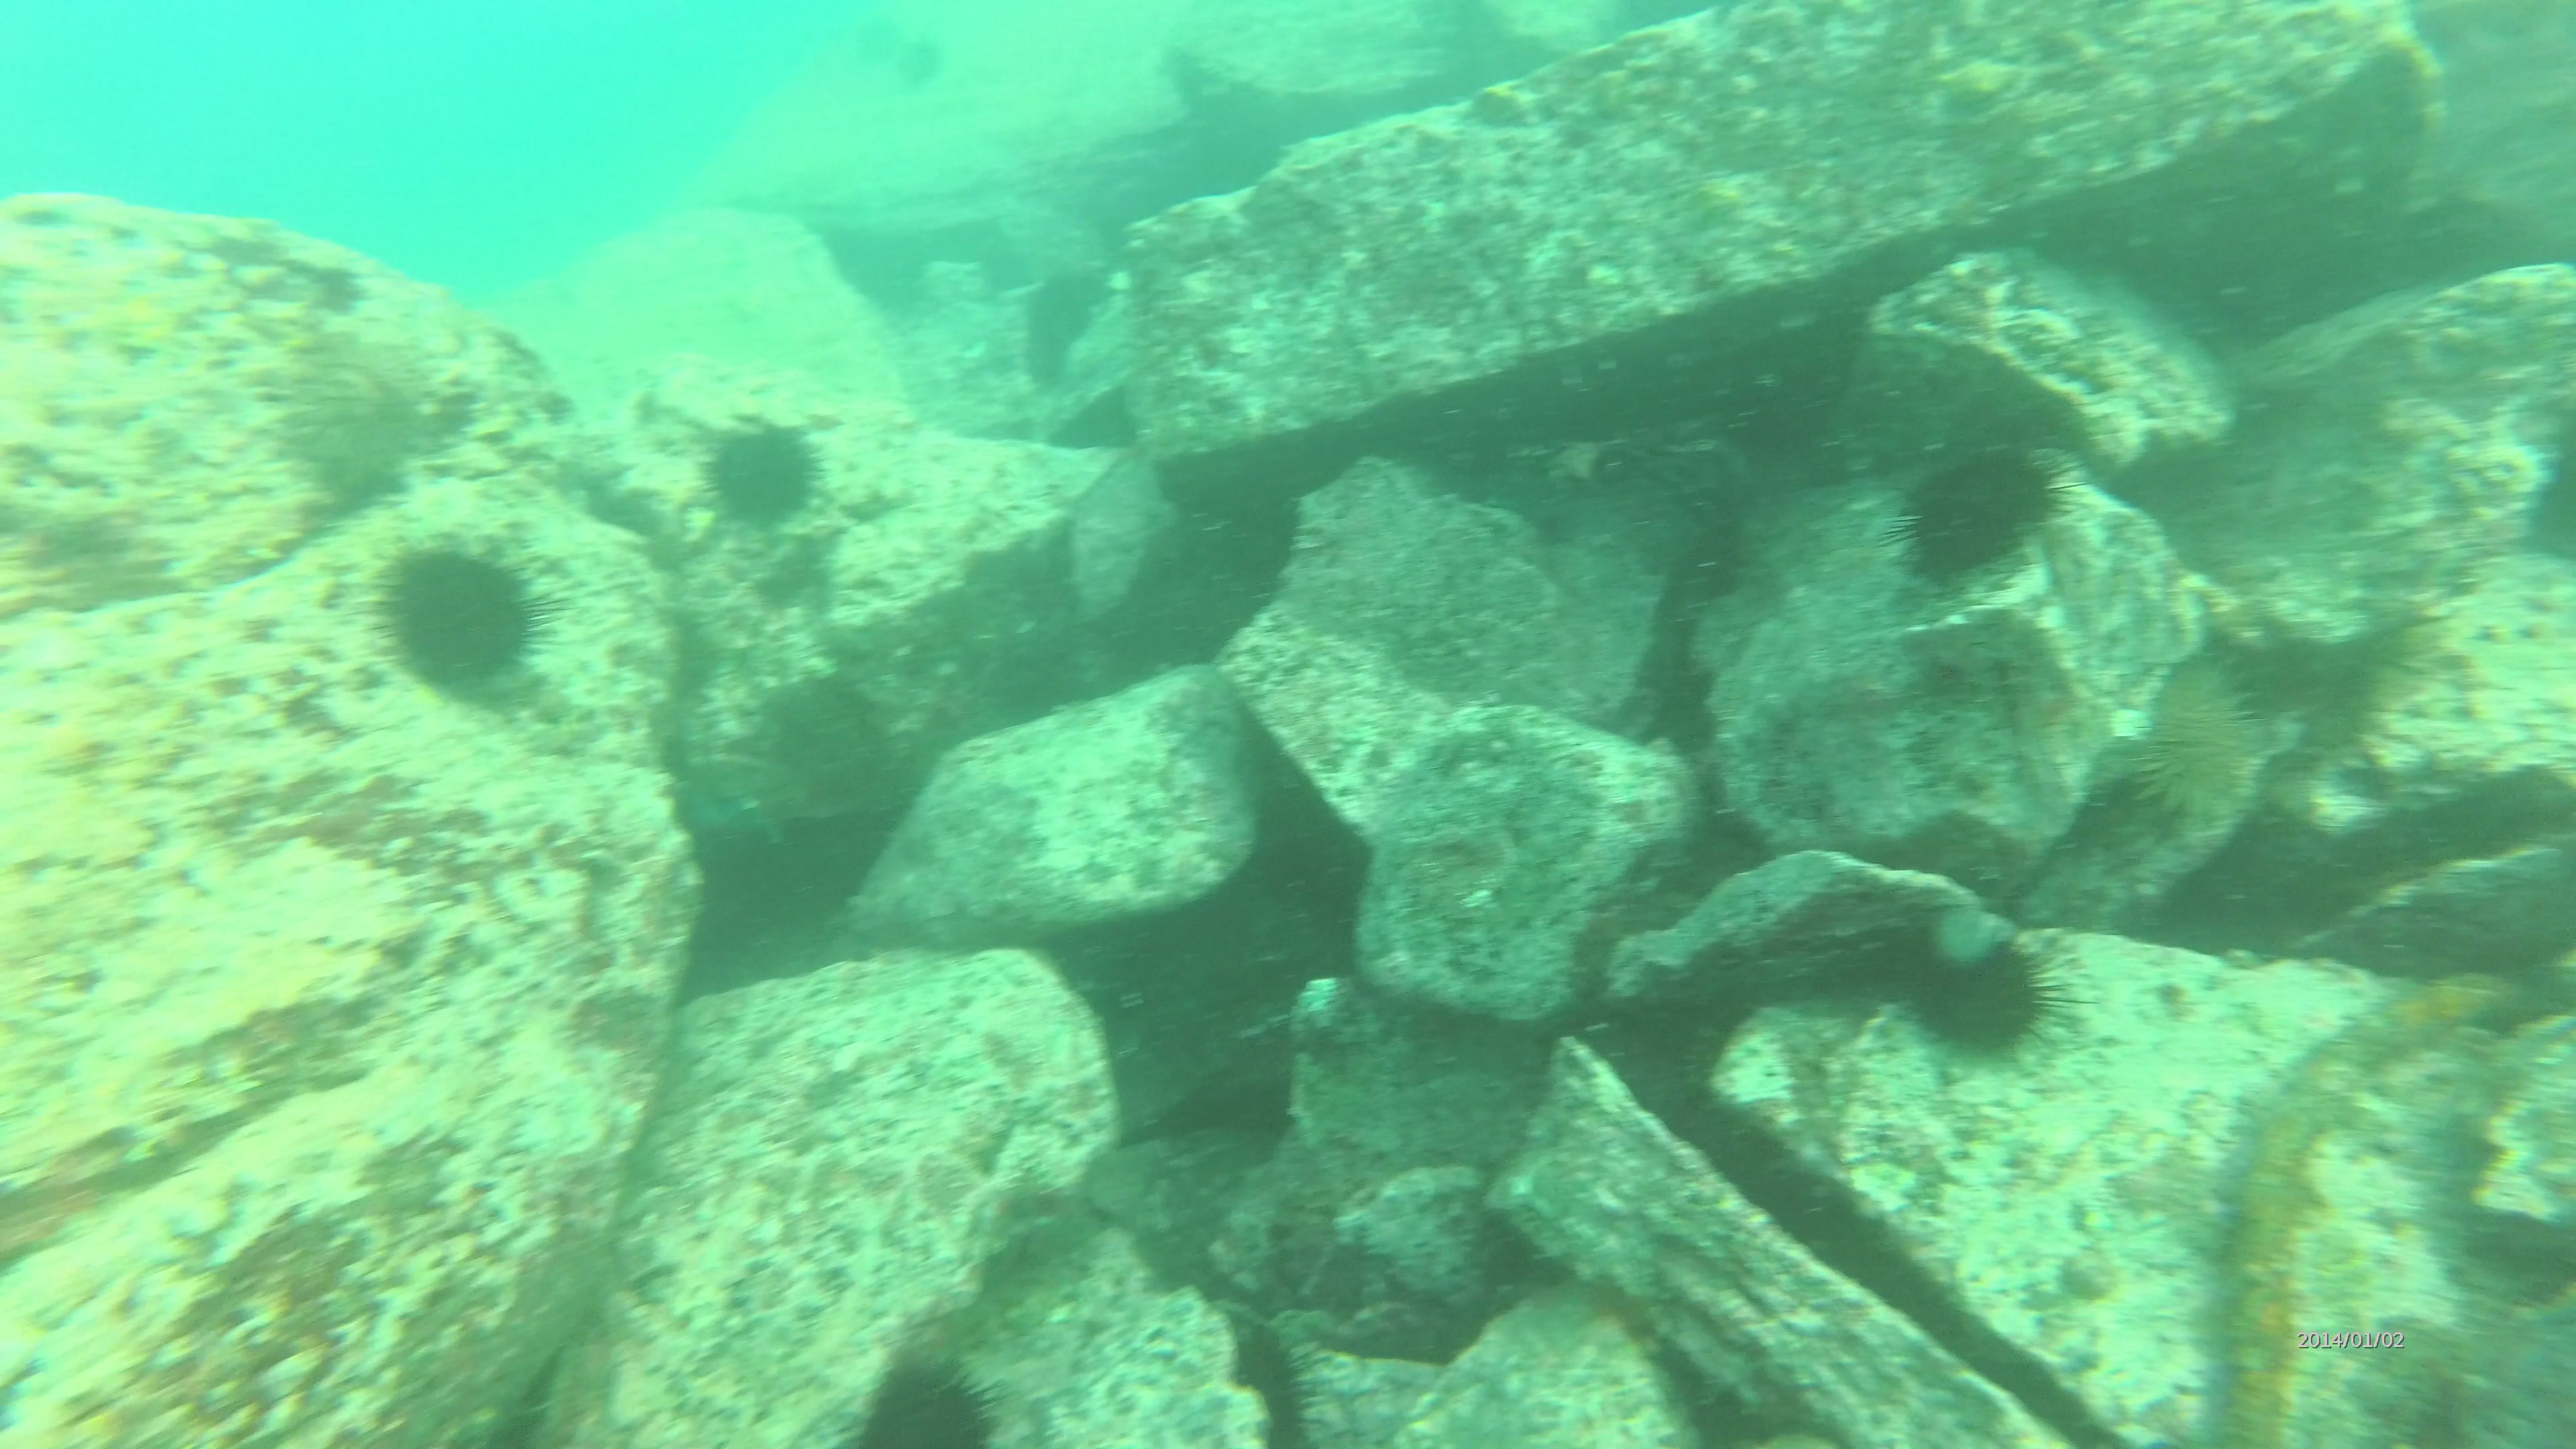echinus: (359, 541, 571, 699), (1879, 437, 2089, 586), (1909, 918, 2081, 1069), (2135, 649, 2266, 828), (694, 414, 835, 527)
